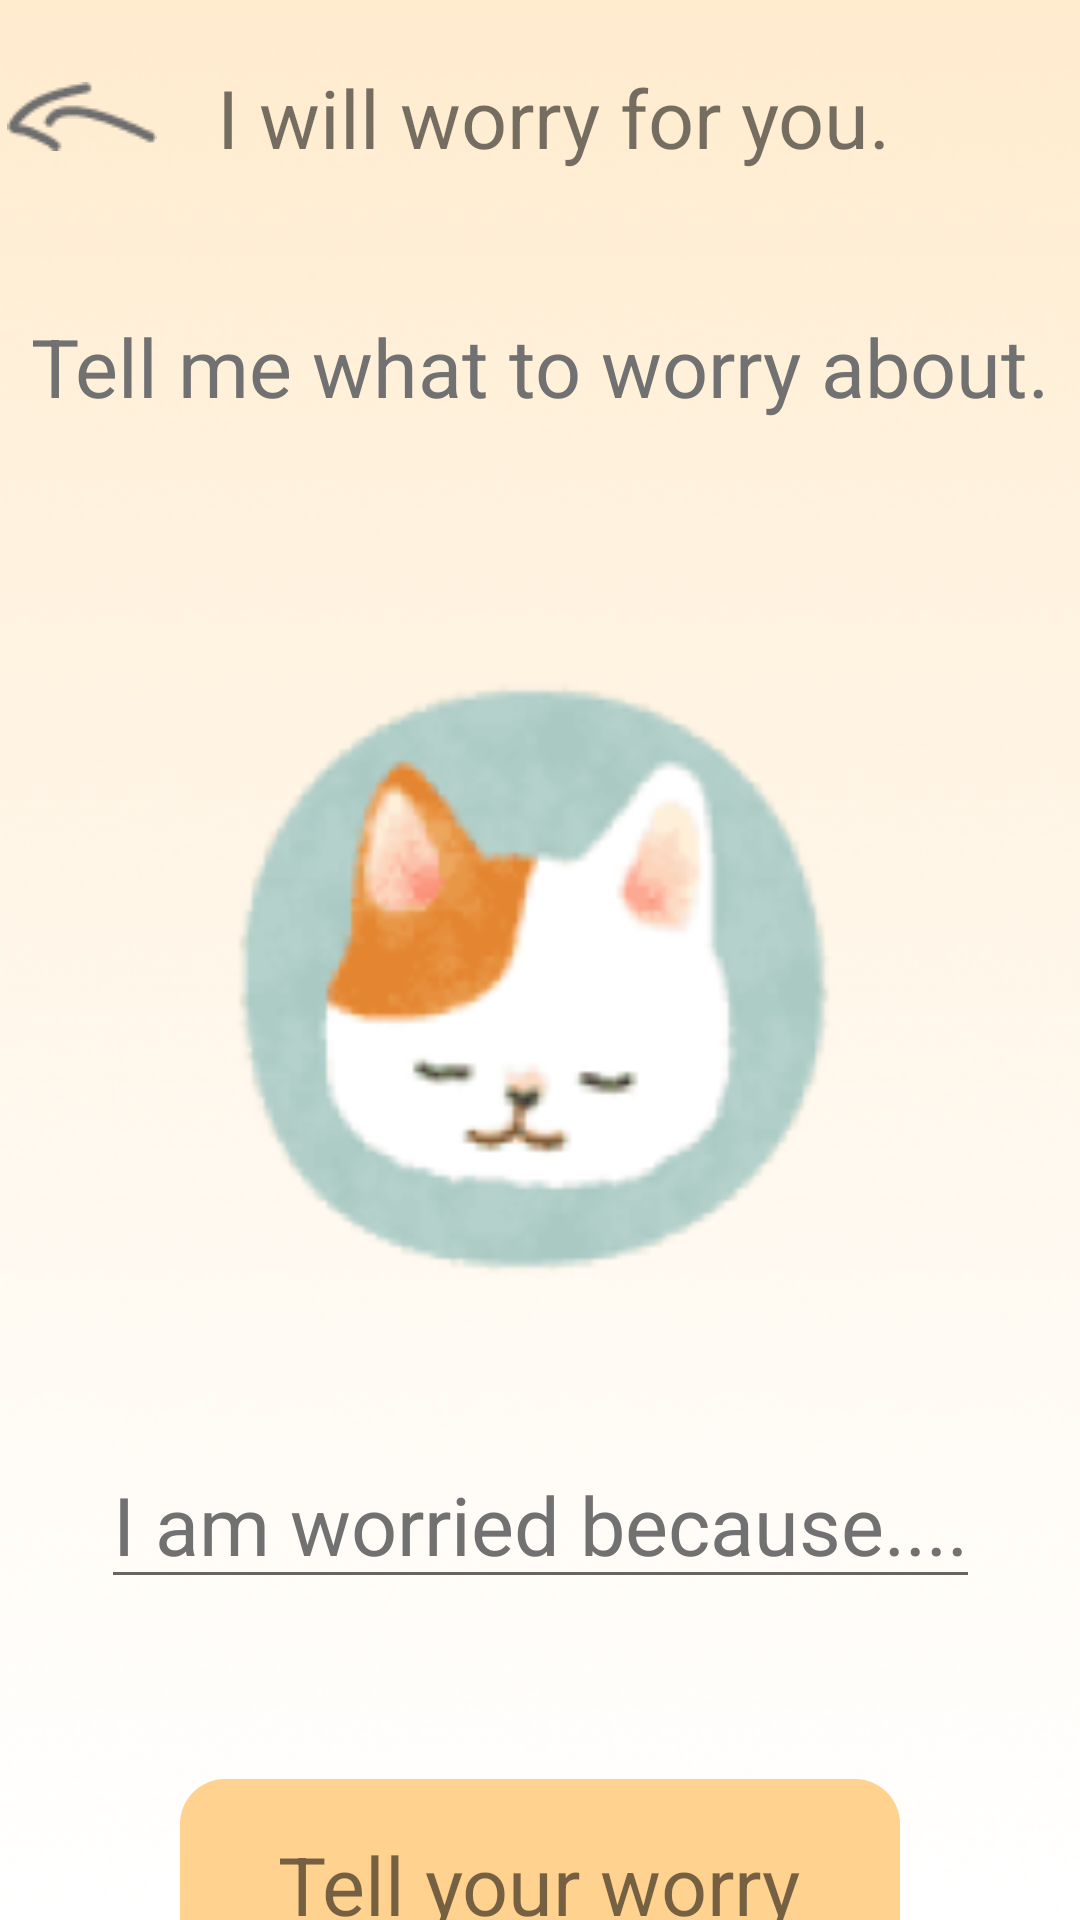

Icon bounding boxes for this 1080w x 1920h phone screenshot, format (left=x1, top=y1, right=x2, bottom=y2):
back: (left=7, top=82, right=157, bottom=151)
